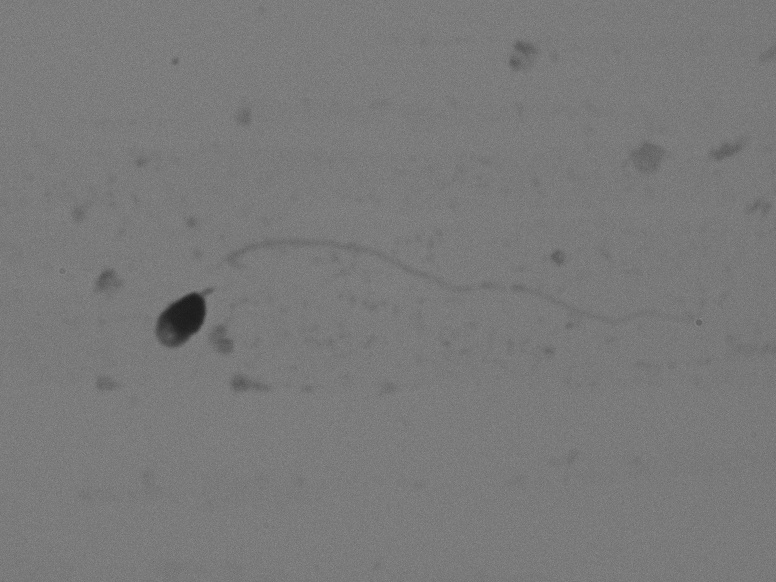Abnormal: (95, 110, 746, 433)
